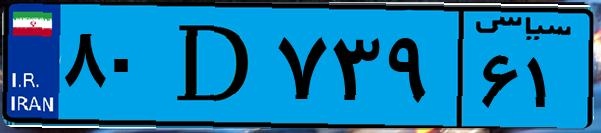0: (110, 28, 158, 98)
1: (525, 38, 570, 115)
3: (330, 28, 385, 110)
6: (475, 38, 525, 113)
7: (270, 28, 330, 110)
8: (57, 26, 110, 100)
9: (385, 28, 445, 110)
D: (158, 12, 270, 120)
